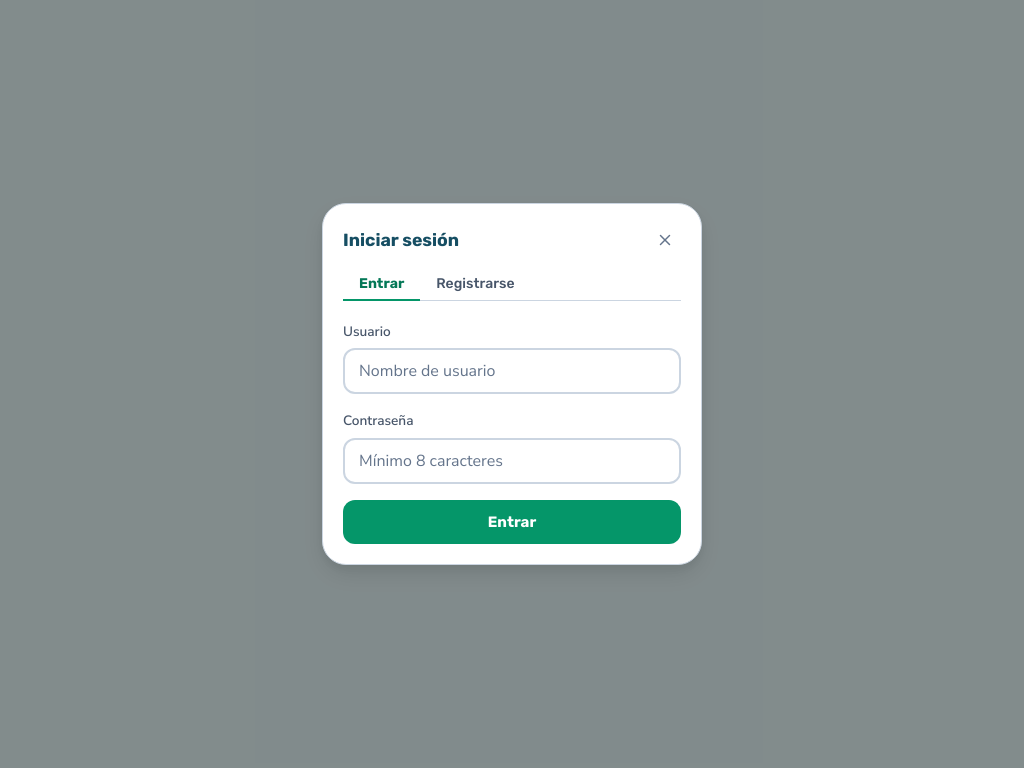
LoginModal › clears the error when switching tabs
This screenshot has width=1024, height=768.
Type "u" into the field labelled "Usuario".
click(512, 371); type("u")  # box [343,348,681,394]
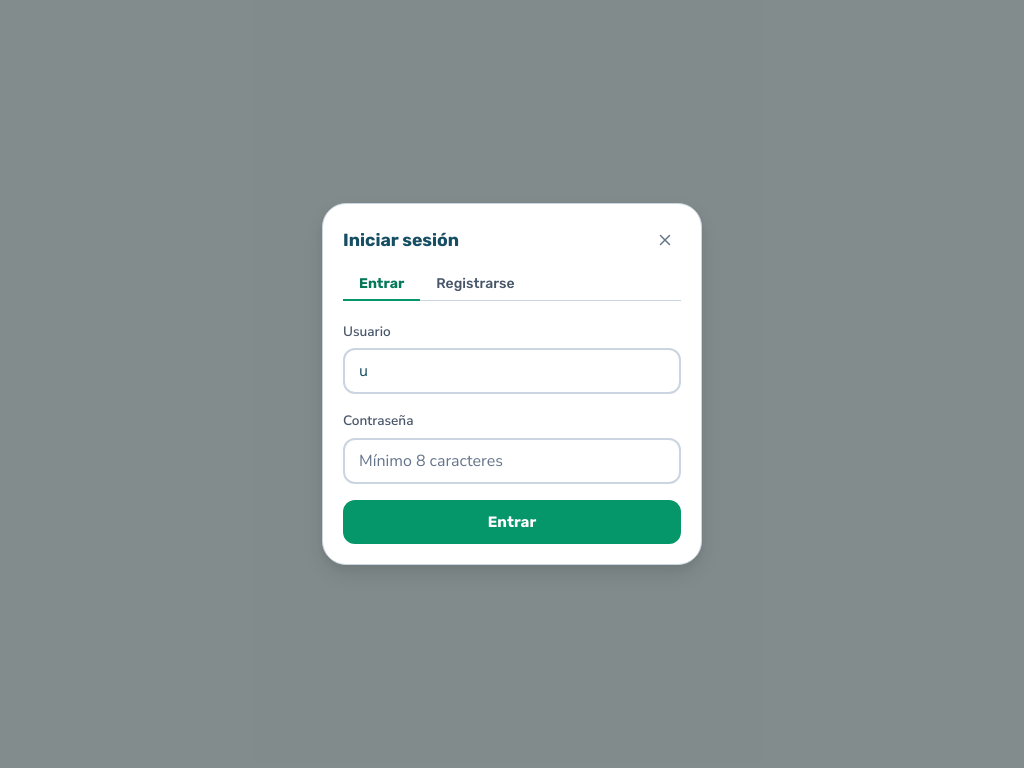
Type "p" into the password field labelled "Contraseña".
click(512, 461); type("p")  # box [343,438,681,484]
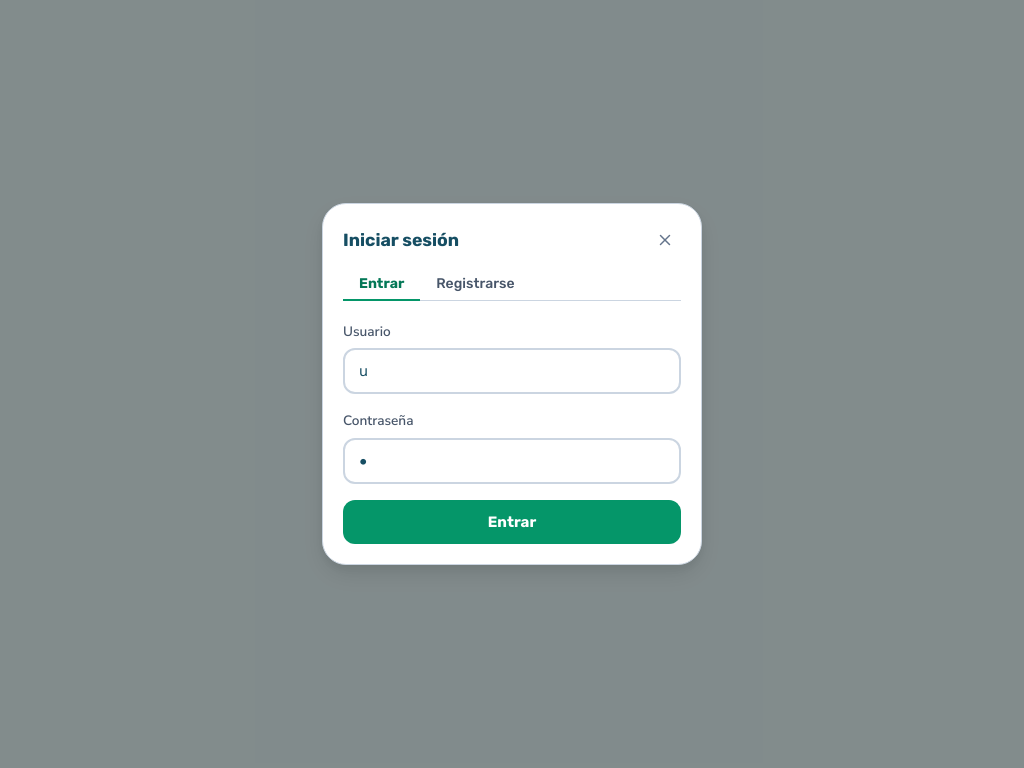
Click the submit button.
click(512, 522)  # box [343,500,681,544]
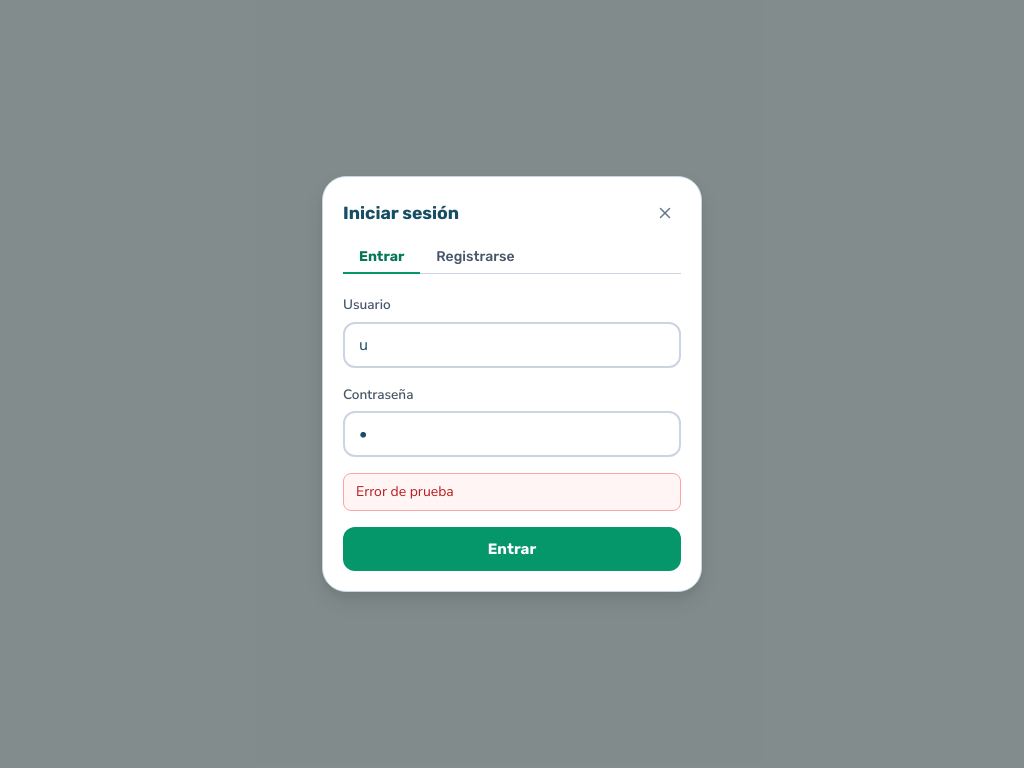
Check: the message "Error de prueba" is shown, box [343,473,681,511]
Click the button "Registrarse".
click(475, 258)  # box [420,241,531,274]
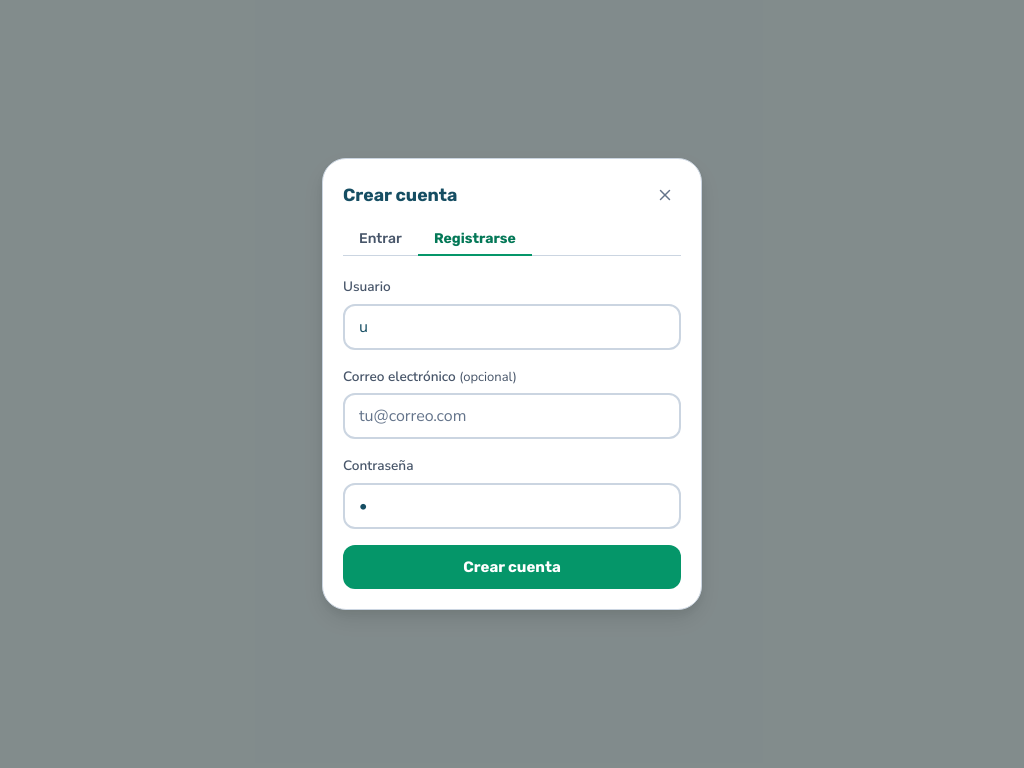
Check: the message "Error de prueba" is gone
